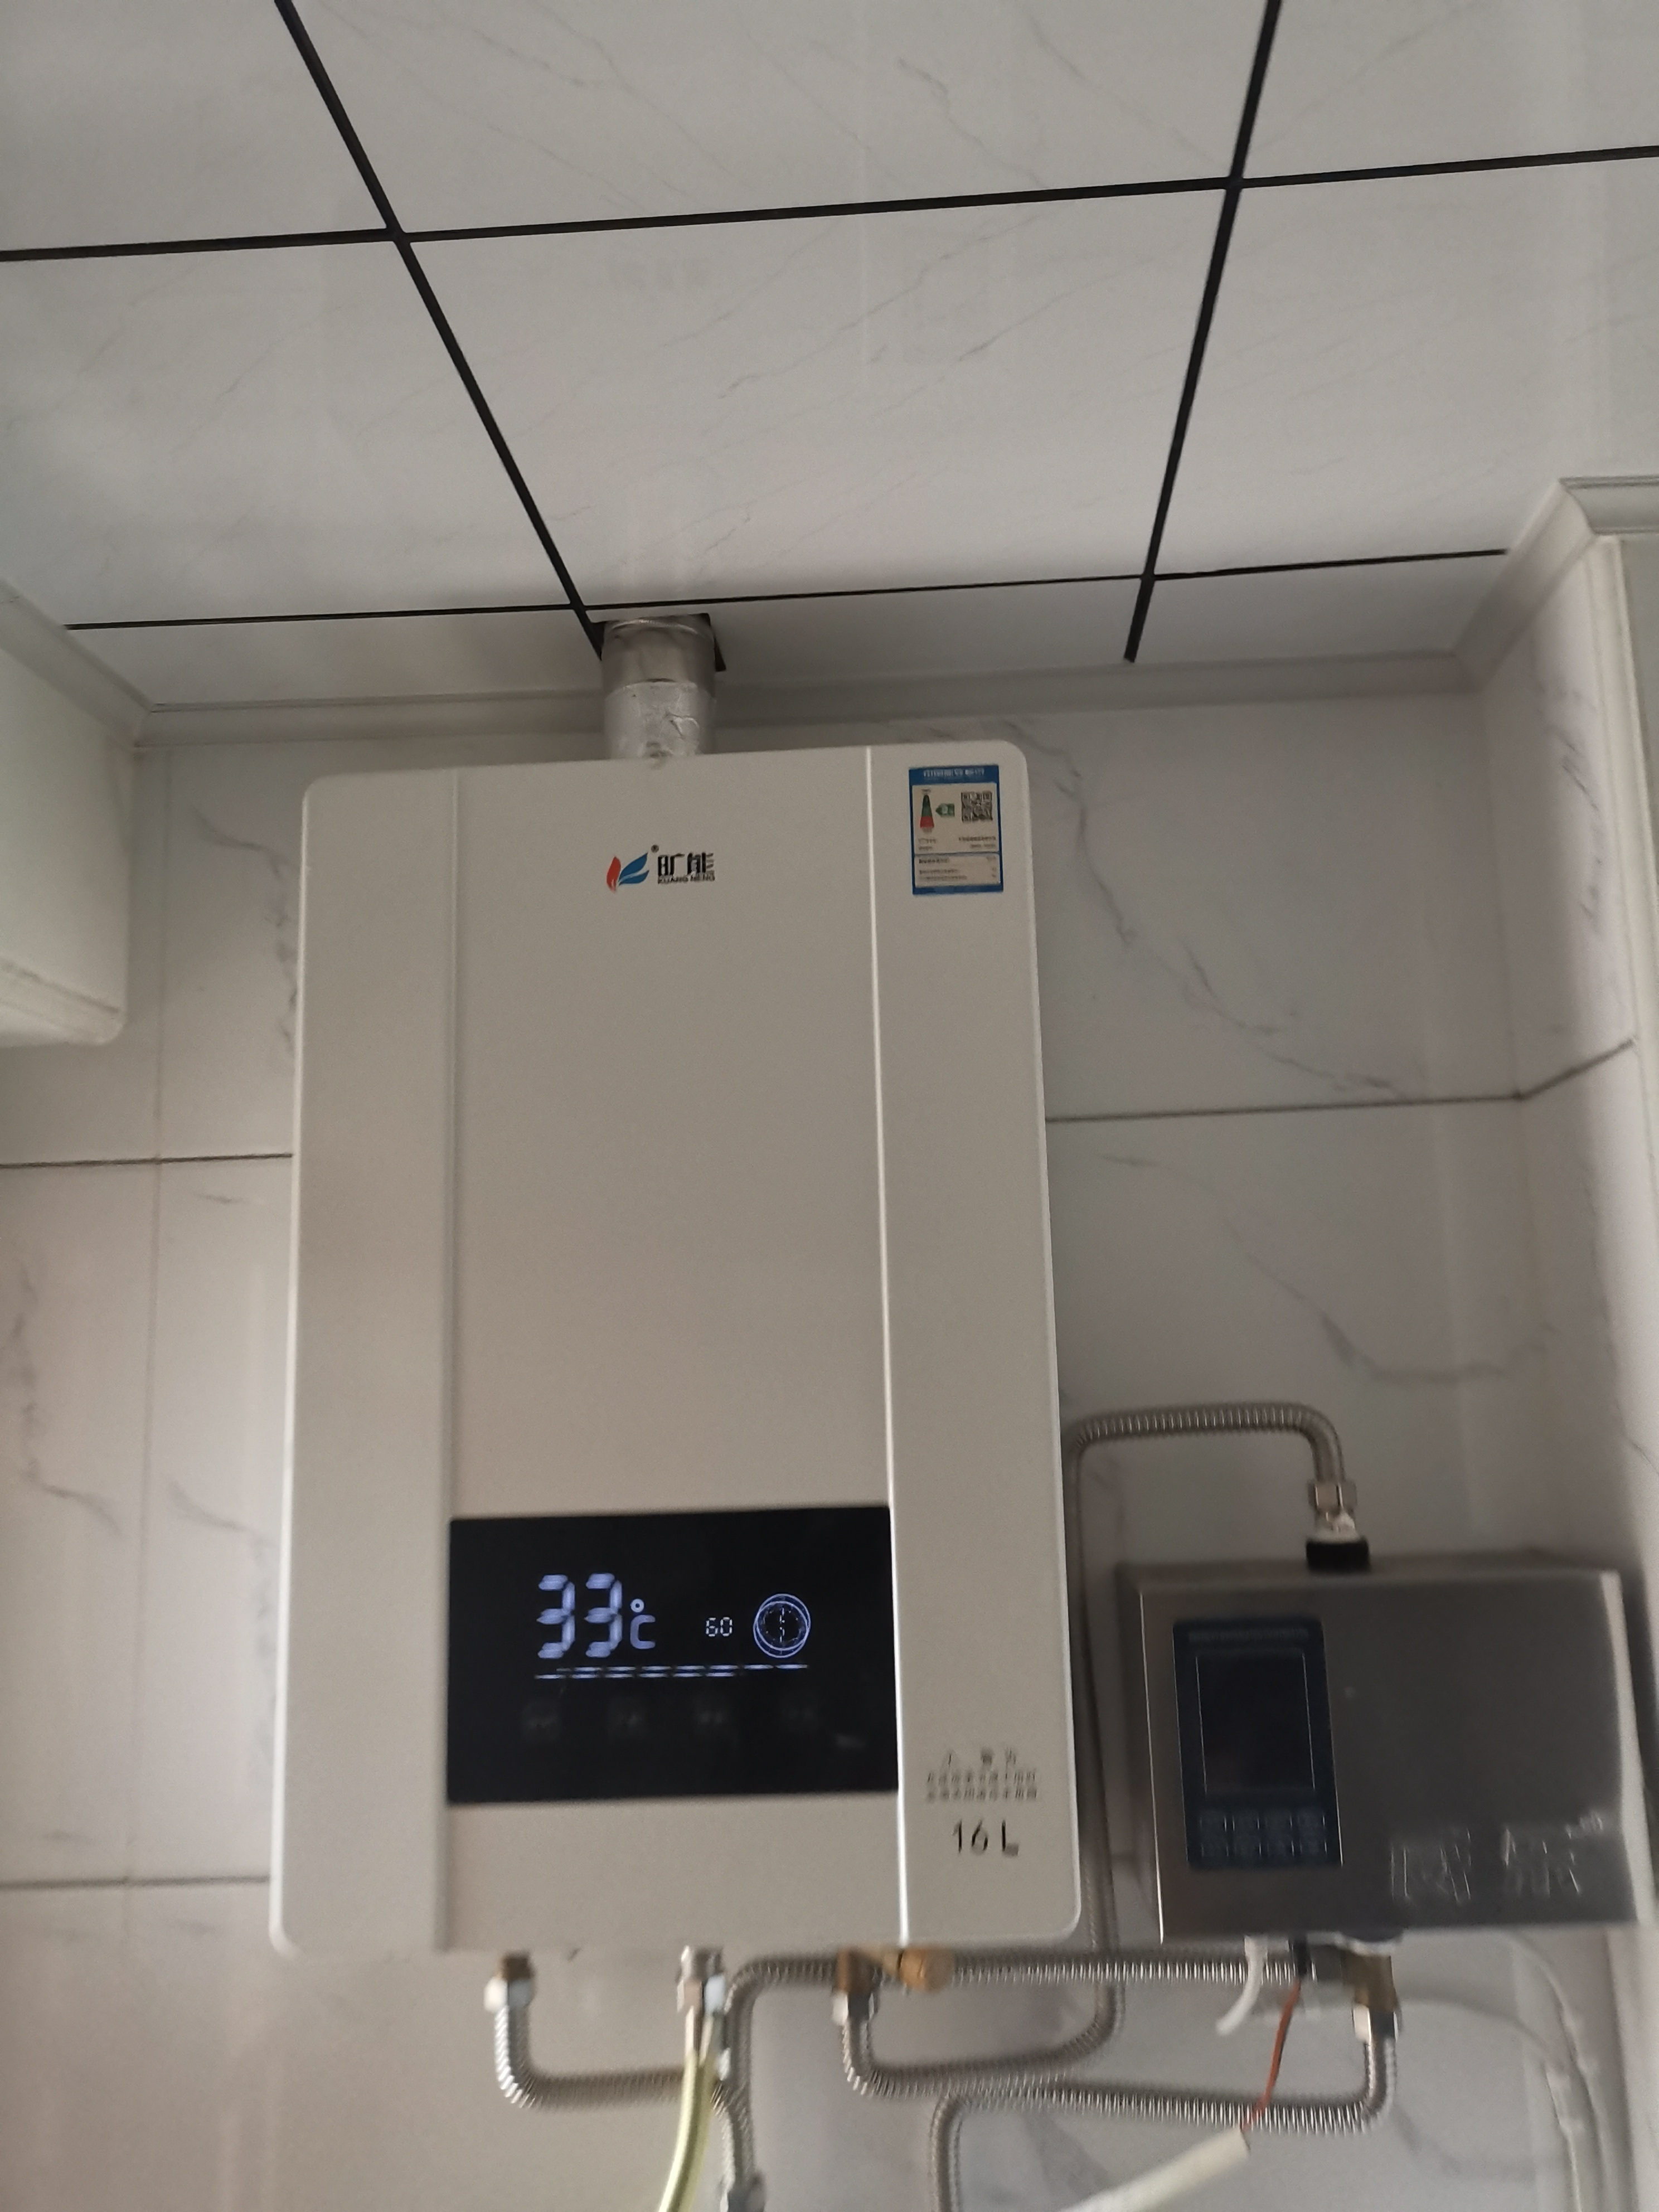loudou: (592, 831, 744, 904)
